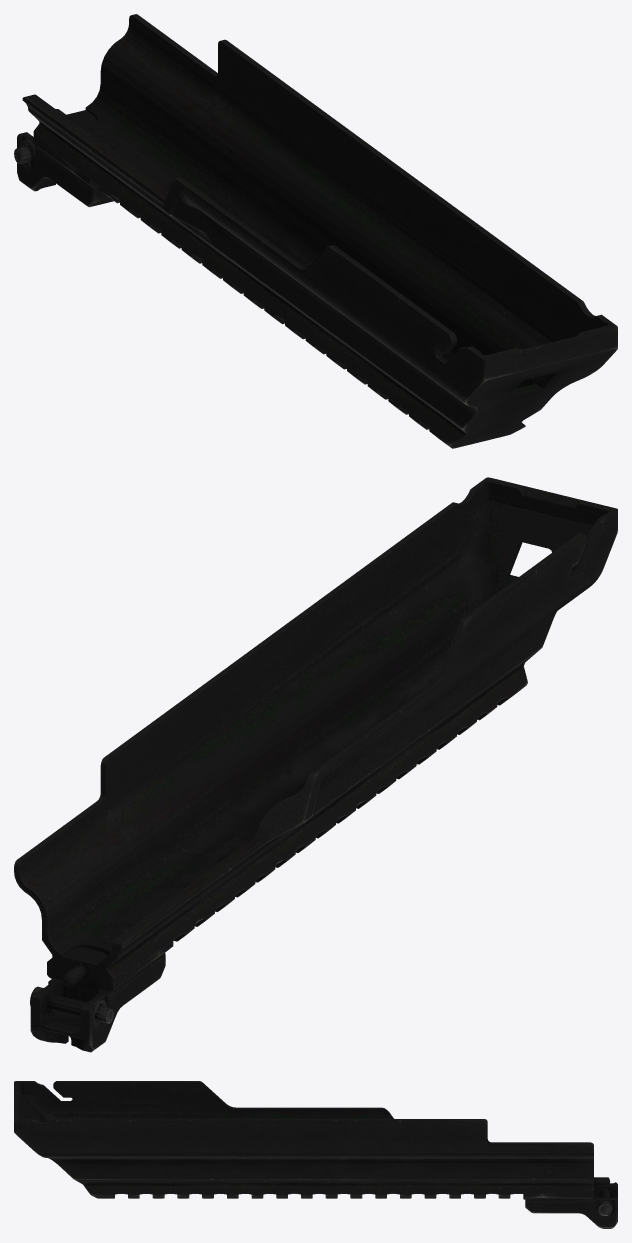
3 views of the same model, one above another, from view 1: azimuth 30°, elevation 25°; view 2: azimuth 150°, elevation 25°; view 3: azimuth 270°, elevation 25° (orthographic). The views are drawn at different scales.
Parts seen in each view (by area): view 1: TW_655cb6b5d680a544f30607fa_PZ_Import; view 2: TW_655cb6b5d680a544f30607fa_PZ_Import; view 3: TW_655cb6b5d680a544f30607fa_PZ_Import.
Part boxes in pixels (left/top/right/bottom): TW_655cb6b5d680a544f30607fa_PZ_Import: left=14, top=14, right=617, bottom=448; TW_655cb6b5d680a544f30607fa_PZ_Import: left=14, top=477, right=617, bottom=1052; TW_655cb6b5d680a544f30607fa_PZ_Import: left=14, top=1081, right=617, bottom=1228.
Bounding box in the file's own units: 0.0218 × 0.1413 × 0.0311.
Materials: 1 (1 with a texture image).
